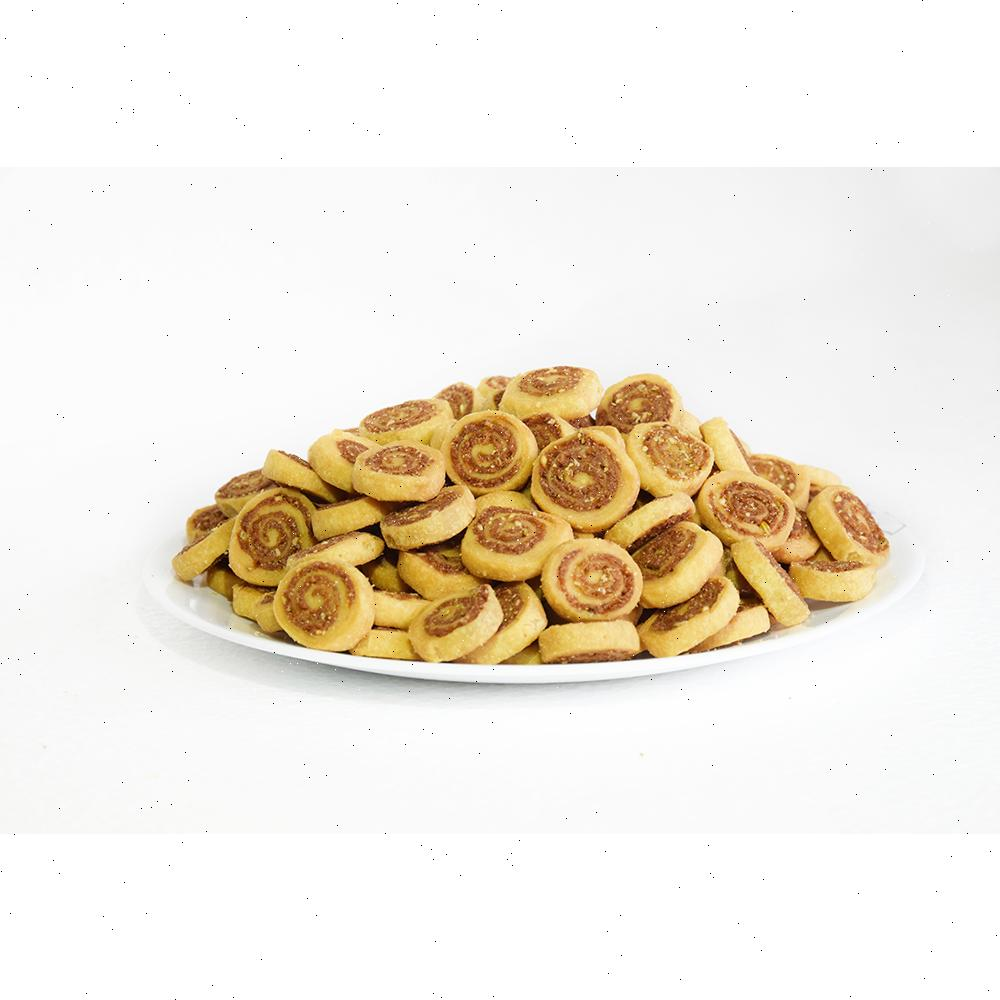bhakarwadi: (174, 362, 918, 685)
